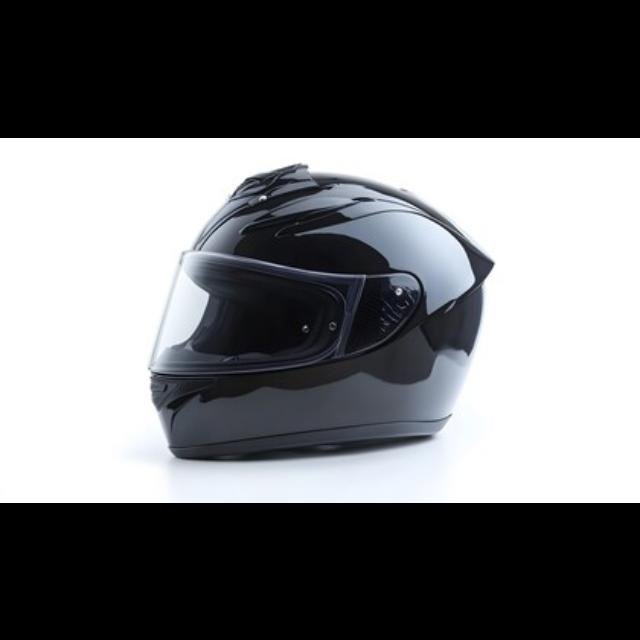motorcycle-helmets: (143, 160, 494, 464)
